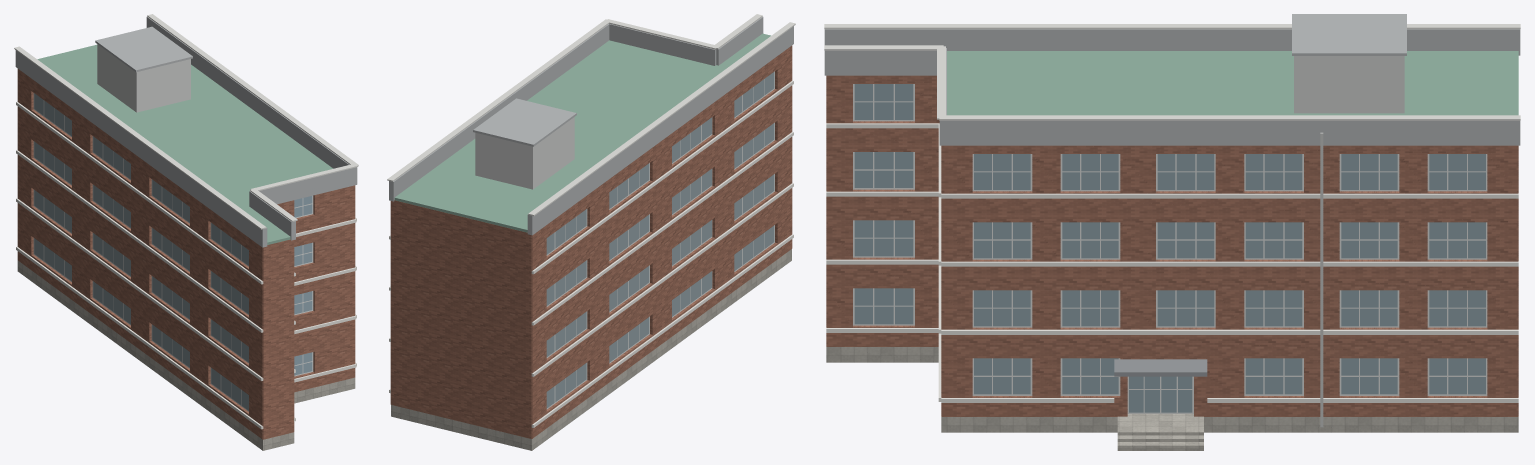
3 renders of one model, left to right at view 1: azimuth 30°, elevation 25°; view 2: azimuth 150°, elevation 25°; view 3: azimuth 270°, elevation 25°, orthographic. The views are drawn at different scales.
Visible parts, largest first — view 1: east-wing__brick, east-wing__greenroof, east-wing__greypanel, east-wing__sideglass, east-wing__band, east-wing__cap, east-wing__stone, east-wing__roofbox, east-wing__frame, east-wing__stairglass; view 2: east-wing__brick, east-wing__greenroof, east-wing__greypanel, east-wing__sideglass, east-wing__band, east-wing__stone, east-wing__cap, east-wing__roofbox, east-wing__frame; view 3: east-wing__brick, east-wing__glass, east-wing__greypanel, east-wing__greenroof, east-wing__band, east-wing__frame, east-wing__stone, east-wing__cap, east-wing__roofbox, east-wing__stair-east, east-wing__canopy, east-wing__threshold-east (+1 smaller).
Part boxes in pixels (x1,y1,x2,y2): east-wing__brick: (17, 69, 355, 439); east-wing__greenroof: (37, 44, 333, 244); east-wing__greypanel: (15, 16, 357, 247); east-wing__sideglass: (34, 93, 248, 410); east-wing__band: (16, 101, 356, 429); east-wing__cap: (14, 14, 358, 229); east-wing__stone: (17, 260, 355, 450); east-wing__roofbox: (97, 44, 190, 112); east-wing__frame: (33, 93, 313, 411); east-wing__stairglass: (294, 196, 312, 375); east-wing__brick: (390, 45, 792, 438); east-wing__greenroof: (394, 33, 770, 232); east-wing__greypanel: (389, 16, 793, 235); east-wing__sideglass: (546, 72, 774, 408); east-wing__band: (389, 80, 793, 427); east-wing__stone: (391, 249, 791, 450); east-wing__cap: (387, 14, 795, 216); east-wing__roofbox: (475, 117, 574, 189); east-wing__frame: (546, 71, 774, 409); east-wing__brick: (826, 75, 1518, 416); east-wing__glass: (854, 84, 1485, 412); east-wing__greypanel: (824, 14, 1520, 145); east-wing__greenroof: (947, 51, 1518, 115); east-wing__band: (826, 123, 1518, 402); east-wing__frame: (853, 84, 1487, 413); east-wing__stone: (826, 347, 1518, 432); east-wing__cap: (824, 24, 1520, 120); east-wing__roofbox: (1294, 56, 1404, 113); east-wing__stair-east: (1117, 429, 1203, 450); east-wing__canopy: (1114, 359, 1207, 376); east-wing__threshold-east: (1117, 415, 1203, 428).
Size of the model in its own units: 12.47 by 17.63 by 31.49.
Materials: 14 (2 with a texture image).
